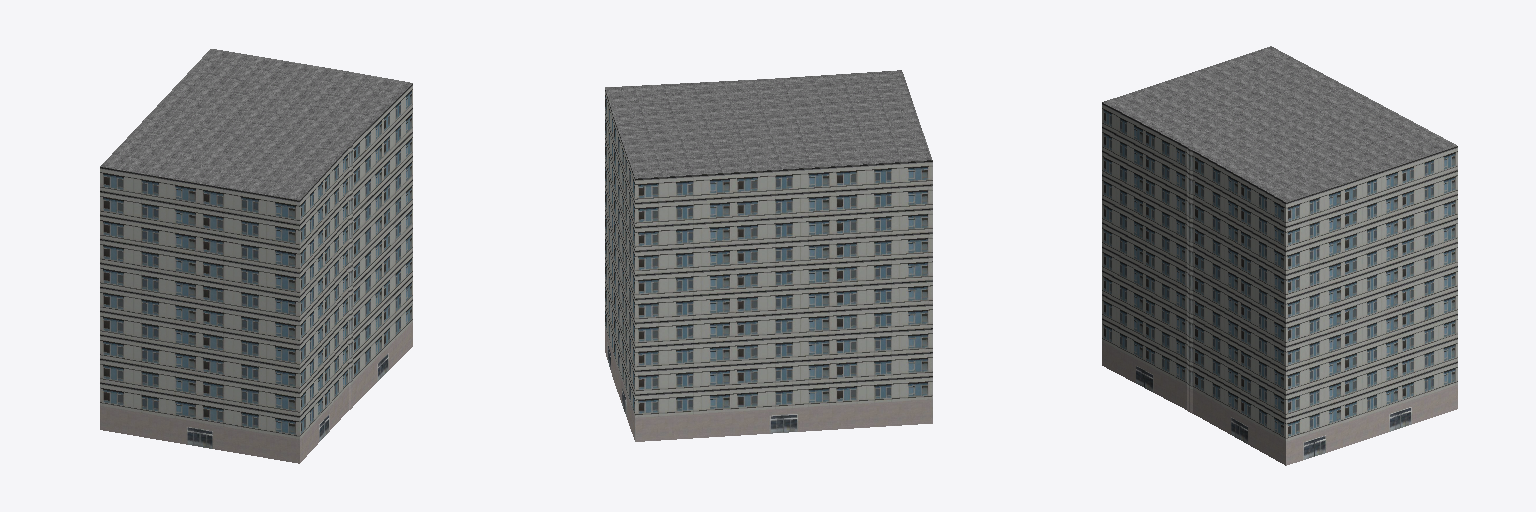
3 renders of one model, left to right at view 1: azimuth 30°, elevation 25°; view 2: azimuth 150°, elevation 25°; view 3: azimuth 270°, elevation 25°, orthographic.
Parts seen in each view (by area): view 1: BuildingMaster_[number redacted]_0, BuildingMaster_[number redacted]_1; view 2: BuildingMaster_[number redacted]_0, BuildingMaster_[number redacted]_1; view 3: BuildingMaster_[number redacted]_0, BuildingMaster_[number redacted]_1.
Boxes of the visible parts, box(x1,y1,x2,y2) form: BuildingMaster_[number redacted]_0: box(100, 84, 412, 463); BuildingMaster_[number redacted]_1: box(100, 49, 412, 199); BuildingMaster_[number redacted]_0: box(605, 90, 932, 441); BuildingMaster_[number redacted]_1: box(605, 70, 931, 178); BuildingMaster_[number redacted]_0: box(1102, 102, 1457, 465); BuildingMaster_[number redacted]_1: box(1103, 46, 1456, 201).
Size of the model in its own units: 49 by 38.5 by 47.12.
2 materials, 2 textured.